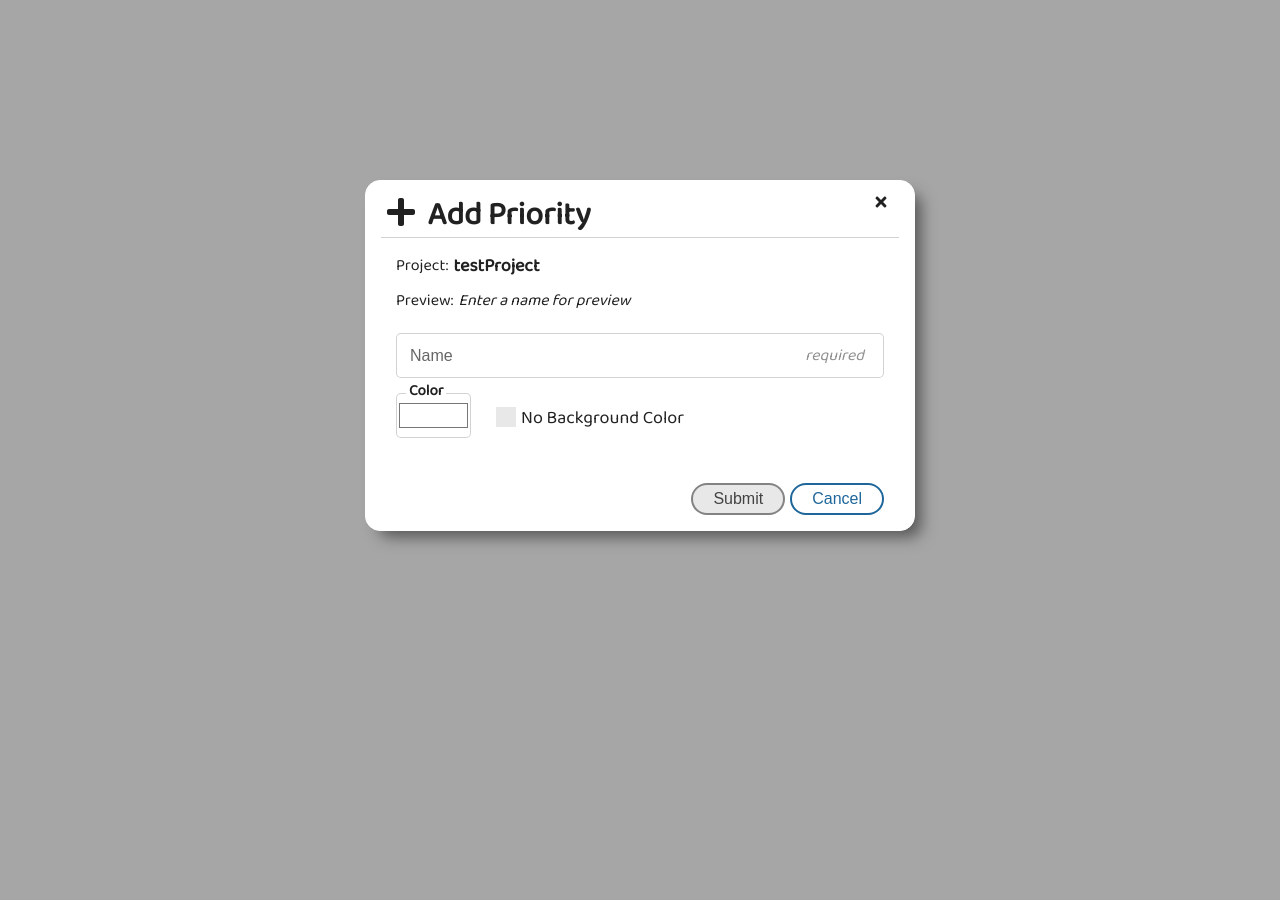
Scenario: <ProjectConfigModal /> › should set the nameError if there is a name validation error
In the field with test id "nameInput.input": [640, 356] box 396,333 -> 884,378, type "some name input"
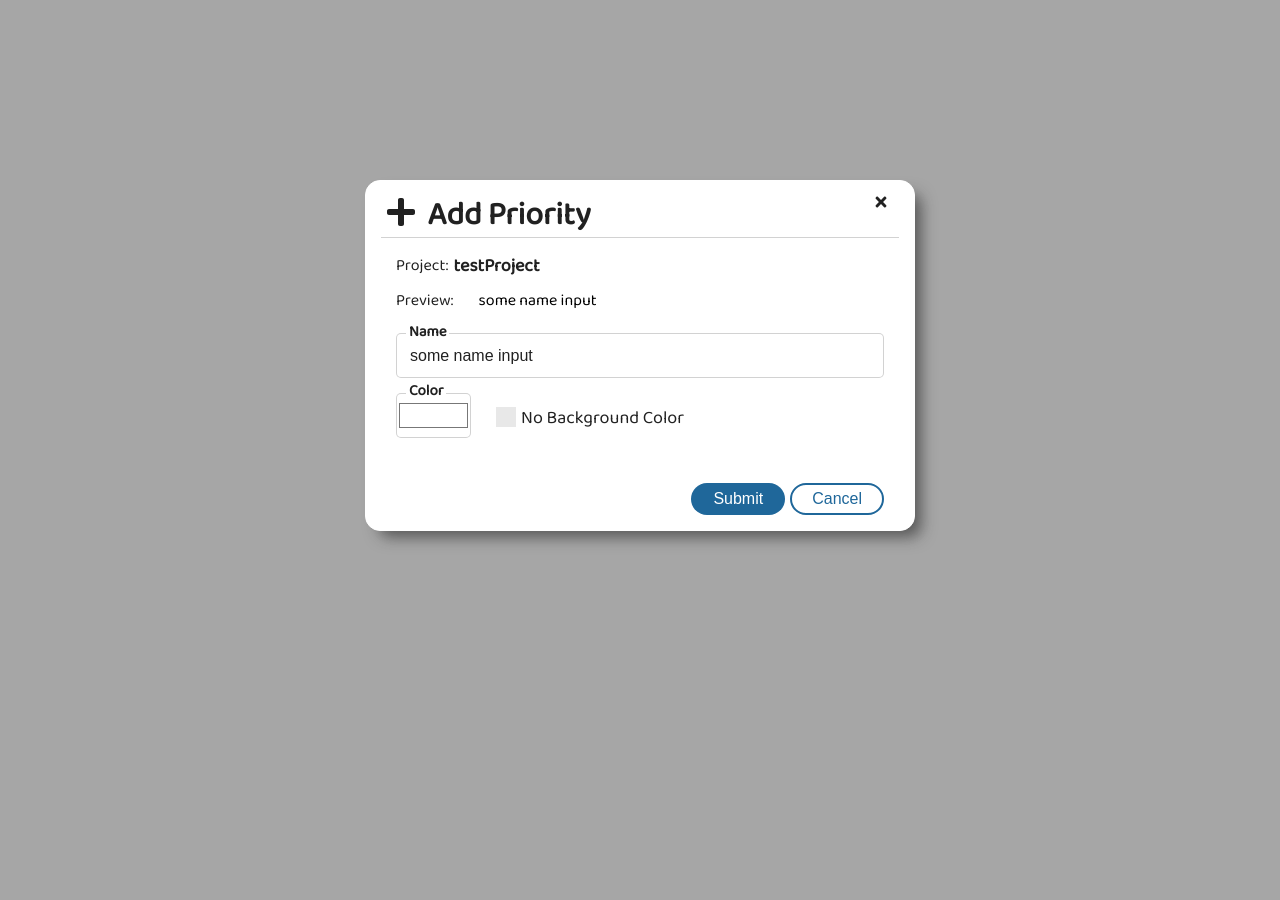
Click the button with test id "projectConfigModal.actions.primaryButton": [738, 499] box 691,483 -> 785,515
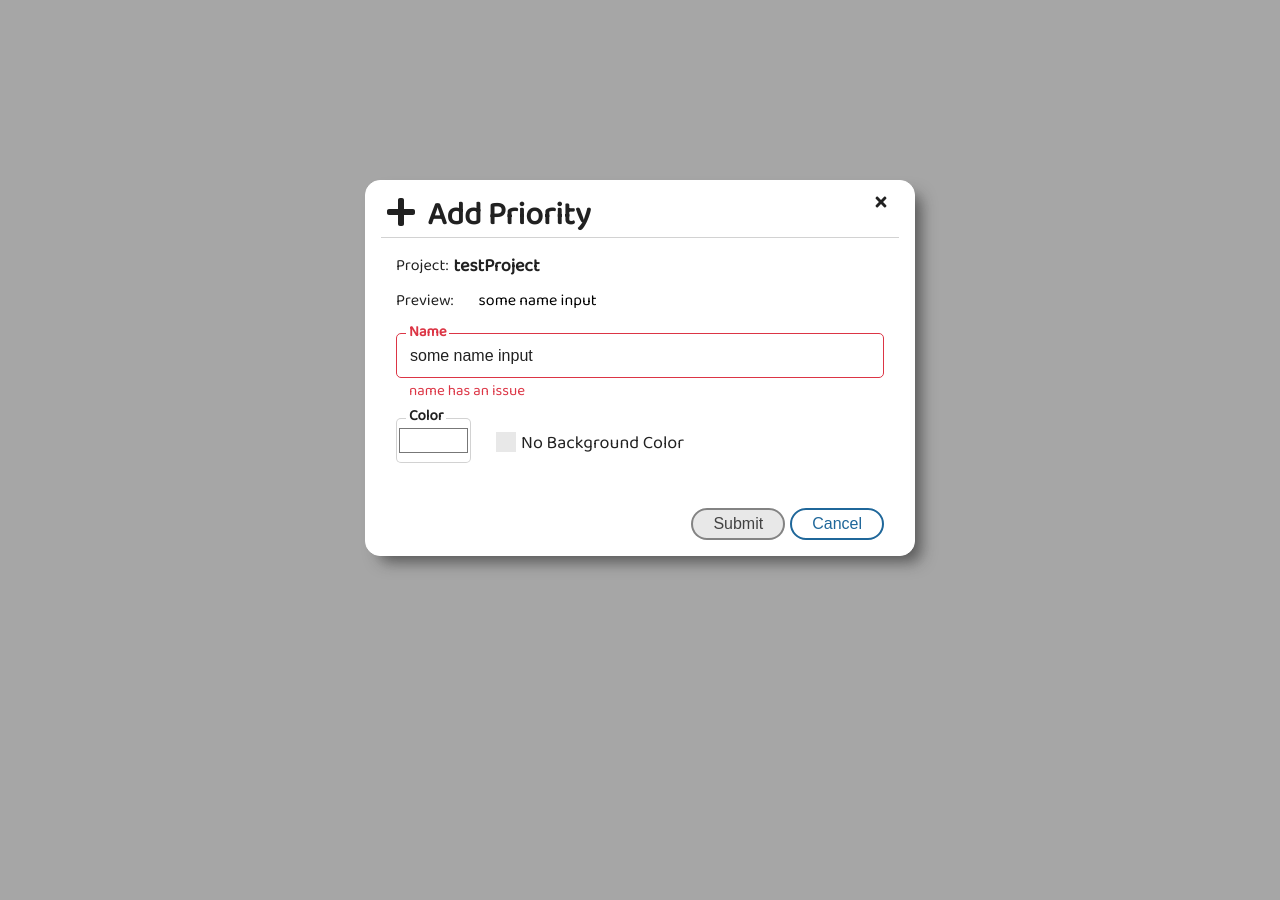
Now the text "name has an issue" is shown, box 409,379 -> 525,403
